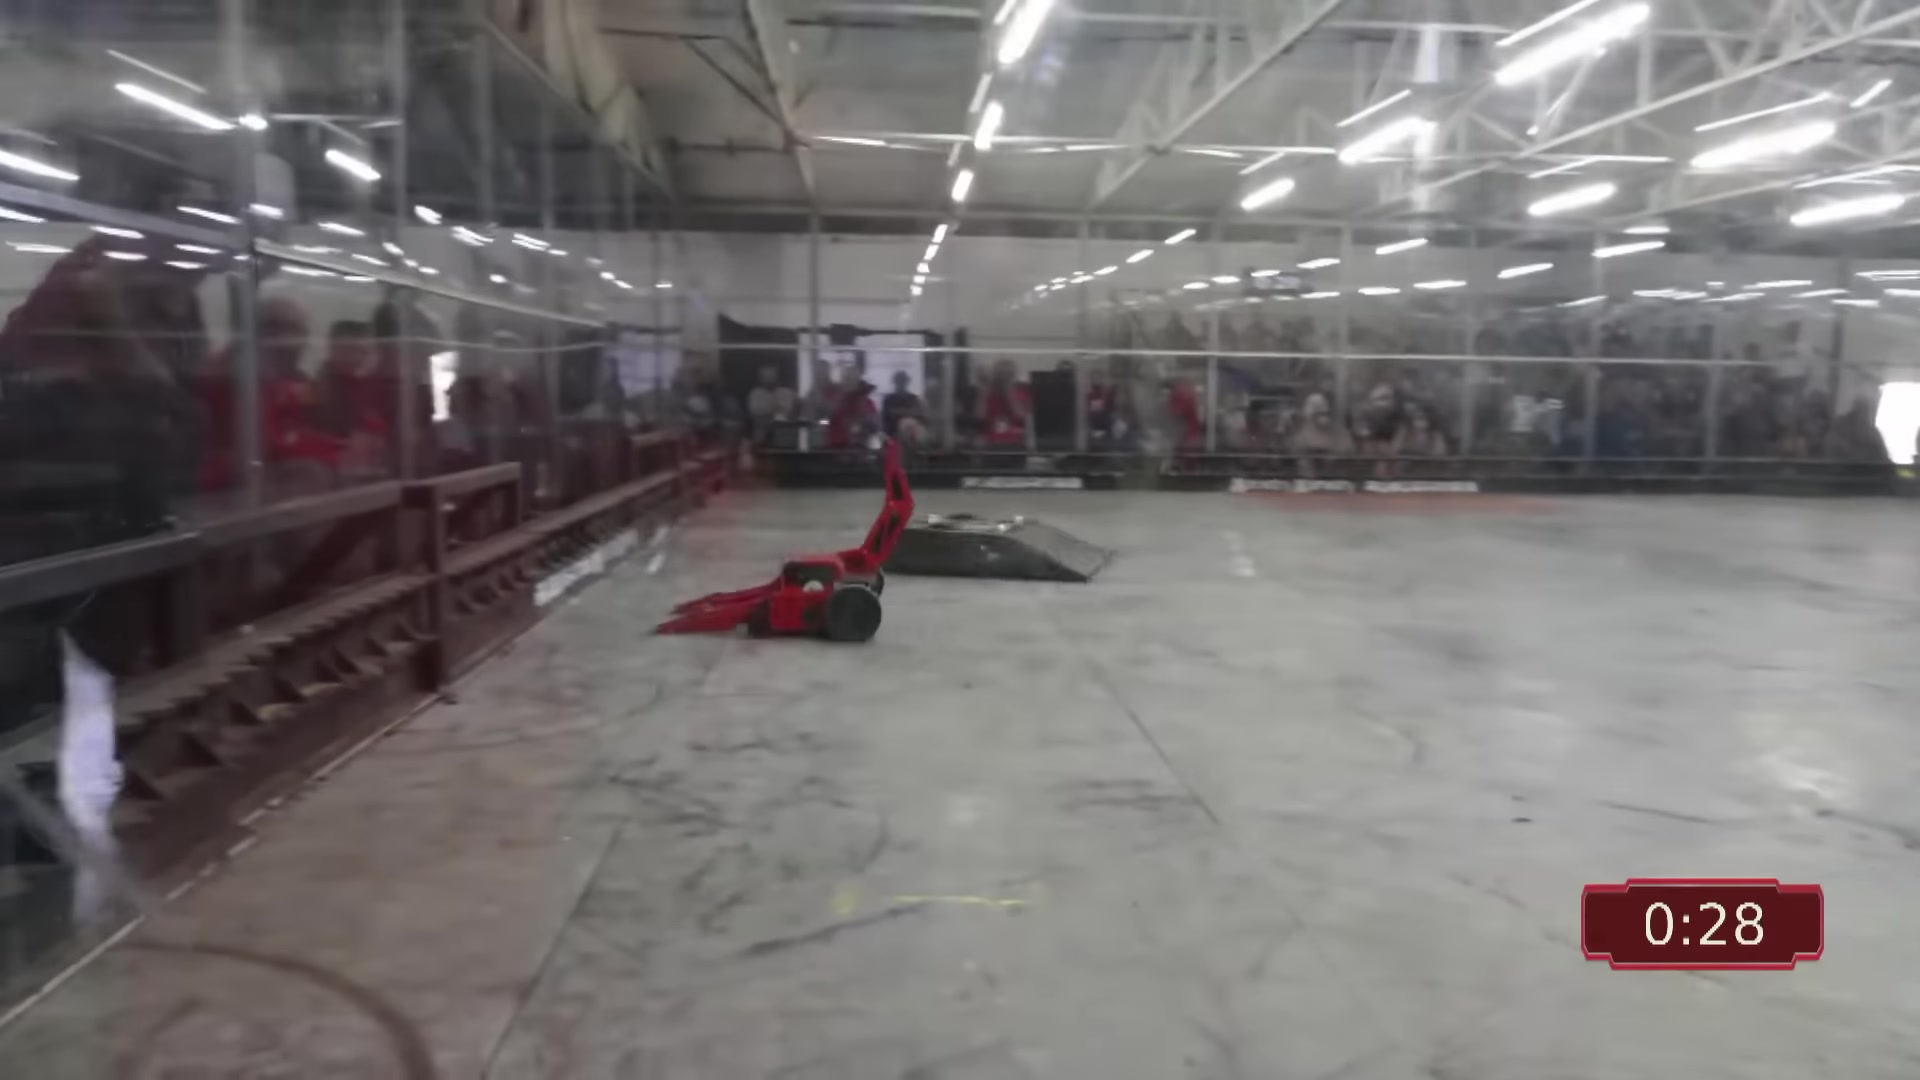combatbot: (658, 440, 911, 637), (882, 512, 1118, 588)
